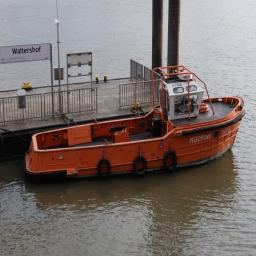tugboat: (21, 66, 248, 187)
